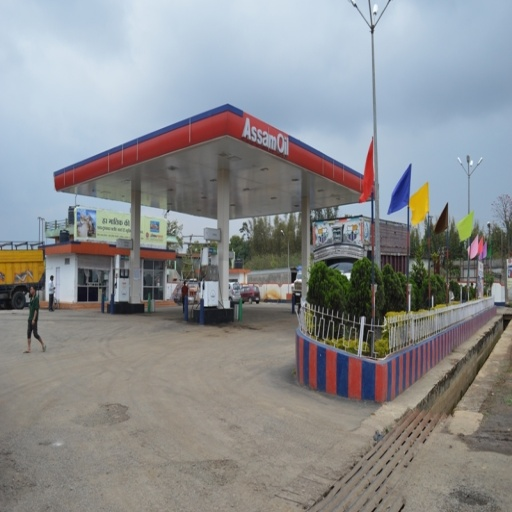roof: (57, 105, 376, 223)
